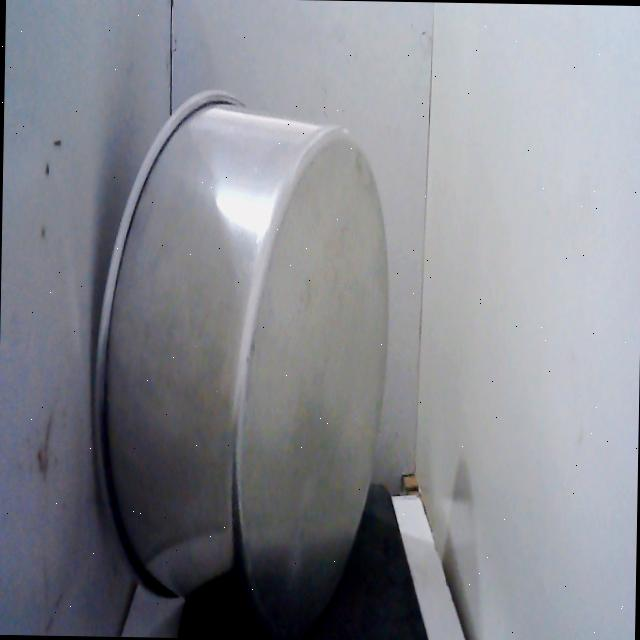metal: (81, 76, 401, 640)
